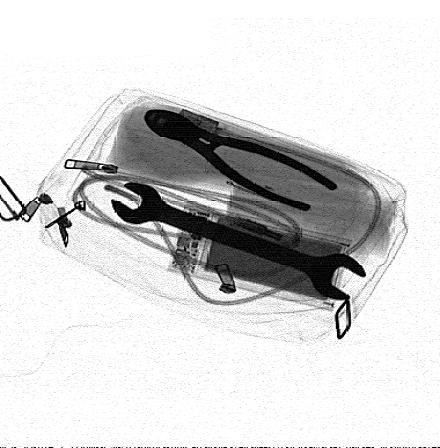Pliers: (142, 108, 339, 212)
Powerbank: (166, 202, 351, 313)
Wrench: (109, 182, 365, 301)
